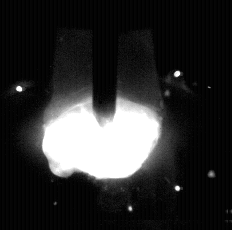arame: (93, 0, 118, 127)
poca: (42, 0, 161, 230)
